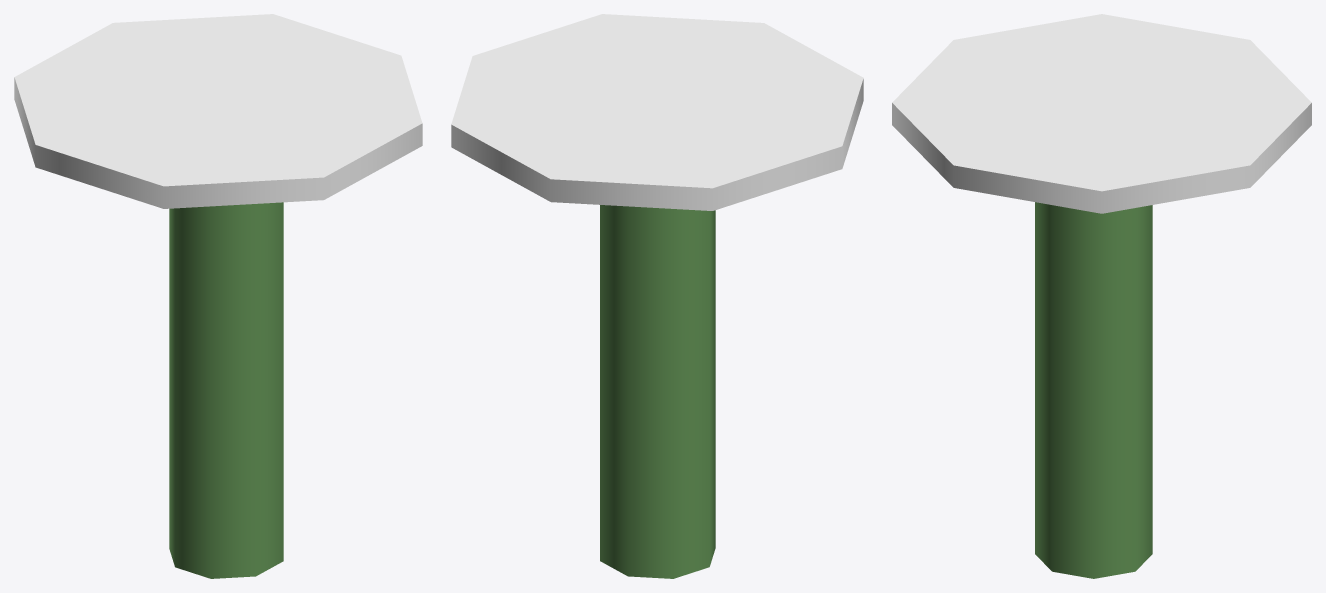
The model's file is SM_Chairs_02.FBX.
3 views of the same model, side by side, from view 1: azimuth 30°, elevation 25°; view 2: azimuth 150°, elevation 25°; view 3: azimuth 270°, elevation 25° (orthographic).
Parts seen in each view (by area): view 1: SM_Chairs_02; view 2: SM_Chairs_02; view 3: SM_Chairs_02.
Boxes of the visible parts, x1,y1,x2,y2 form: SM_Chairs_02: [14, 14, 422, 578]; SM_Chairs_02: [451, 14, 863, 578]; SM_Chairs_02: [892, 14, 1311, 578].
Bounding box in the file's own units: 49.01 × 49.01 × 57.92.
